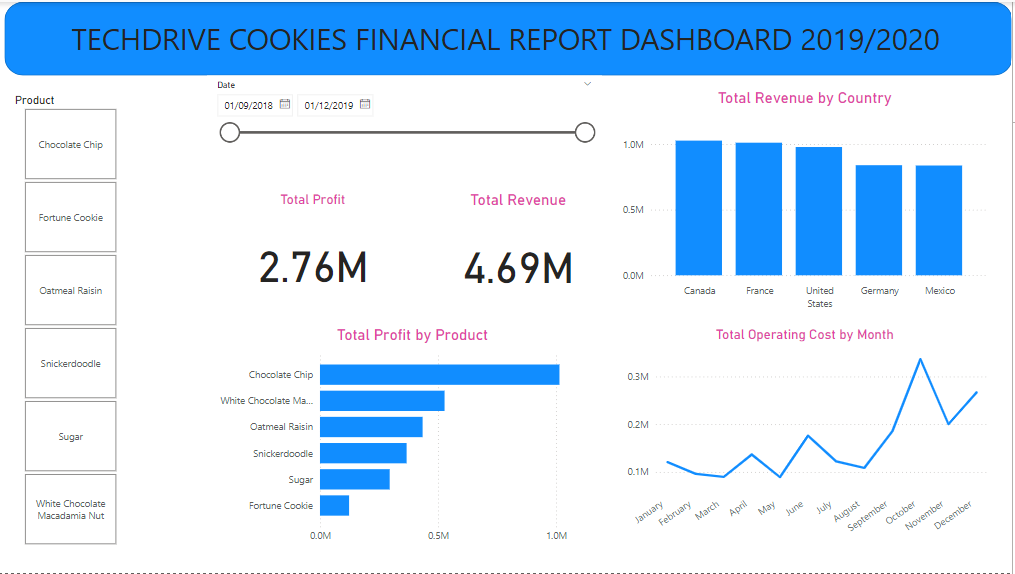

What the dashboard file says about the page in this screenshot:
{"tool":"powerbi","page":{"name":"Page 1","canvas":[1280,720],"ordinal":0},"visuals":[{"type":"shape","box":[9.4,0,1269.9,92.6],"z":0},{"type":"textbox","box":[15.1,15.1,1251,64.3],"z":1000},{"type":"clusteredColumnChart","title":"Total Revenue by Country","fields":{"Category":["financials.Country"],"Y":["Sum(financials.Revenue)"]},"box":[782.4,109.6,470.6,285.4],"z":2000},{"type":"clusteredBarChart","title":"Total Profit by Product","fields":{"Category":["financials.Product"],"Y":["Sum(financials.Profit)"]},"box":[264.6,408.2,517.8,281.6],"z":3000},{"type":"lineChart","title":"Total Operating Cost by Month","fields":{"Category":["financials.Date.Variation.Date Hierarchy.Month"],"Y":["Sum(financials.Cost)"]},"box":[782.4,408.2,470.6,281.6],"z":4000},{"type":"card","title":"Total Revenue","fields":{"Values":["Sum(financials.Revenue)"]},"box":[531,238.1,251.3,156.9],"z":5000},{"type":"card","title":"Total Profit","fields":{"Values":["Sum(financials.Profit)"]},"box":[264.6,238.1,266.5,156.9],"z":6000},{"type":"slicer","fields":{"Values":["financials.Product"]},"box":[9.4,109.6,164.4,580.2],"z":7000},{"type":"slicer","fields":{"Values":["financials.Date"]},"box":[264.6,92.6,497,130.4],"z":9000}]}

Visuals, with their boxes in screenshot pixels (x1, y1, x2, y2), scaled from the page's 1280x720 canvas onto the 1015x574 screenshot:
shape: x1=7 y1=0 x2=1014 y2=74
textbox: x1=12 y1=12 x2=1004 y2=63
"Total Revenue by Country" clusteredColumnChart: x1=620 y1=87 x2=994 y2=315
"Total Profit by Product" clusteredBarChart: x1=210 y1=325 x2=620 y2=550
"Total Operating Cost by Month" lineChart: x1=620 y1=325 x2=994 y2=550
"Total Revenue" card: x1=421 y1=190 x2=620 y2=315
"Total Profit" card: x1=210 y1=190 x2=421 y2=315
slicer - financials.Product: x1=7 y1=87 x2=138 y2=550
slicer - financials.Date: x1=210 y1=74 x2=604 y2=178
